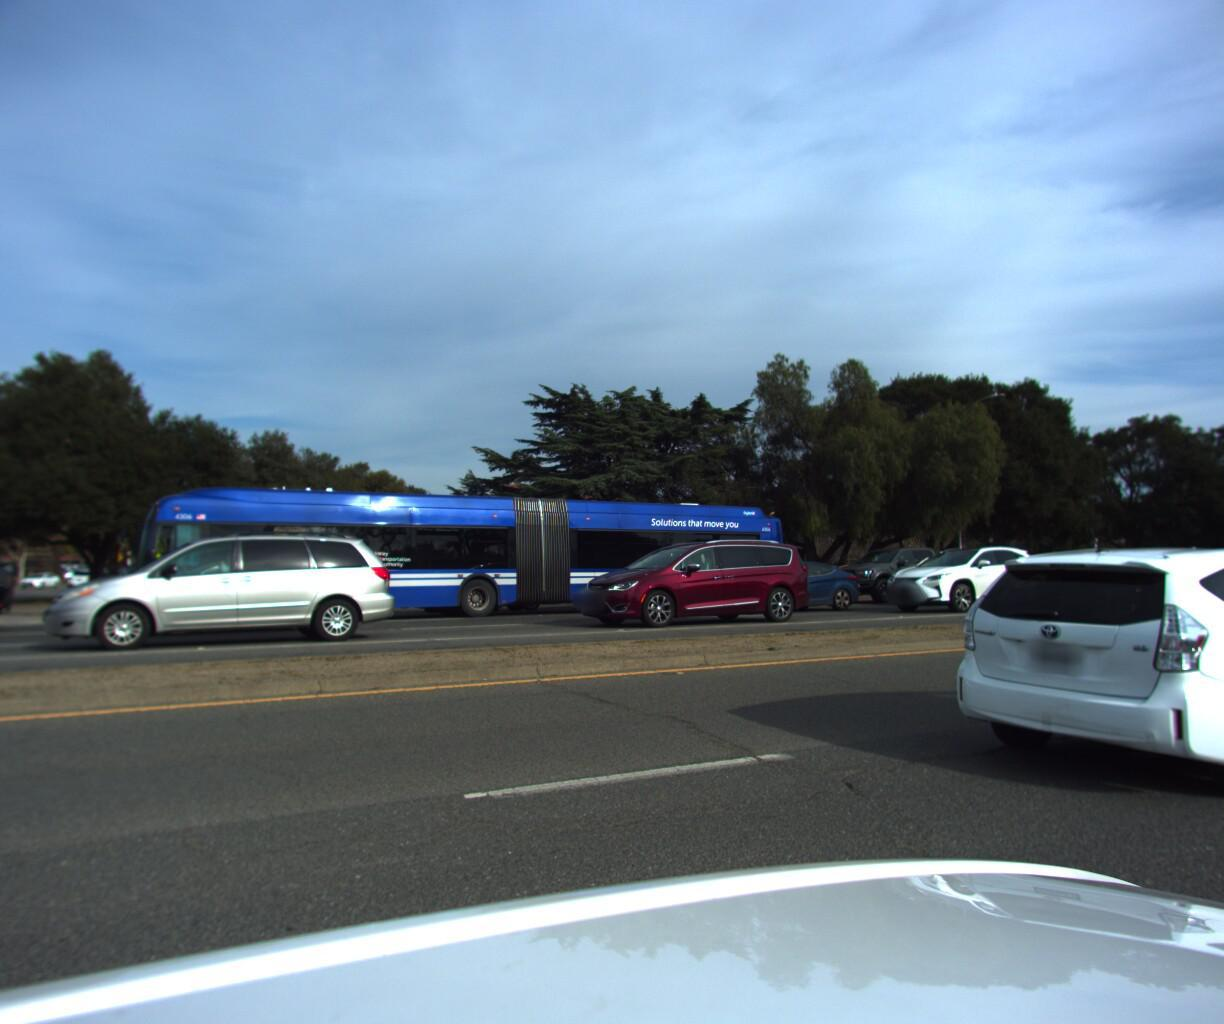bus: (115, 479, 798, 636)
car: (927, 530, 1224, 828), (33, 519, 413, 665), (551, 528, 819, 633), (856, 534, 1065, 615), (683, 548, 873, 607), (813, 540, 984, 605), (0, 530, 30, 637)
